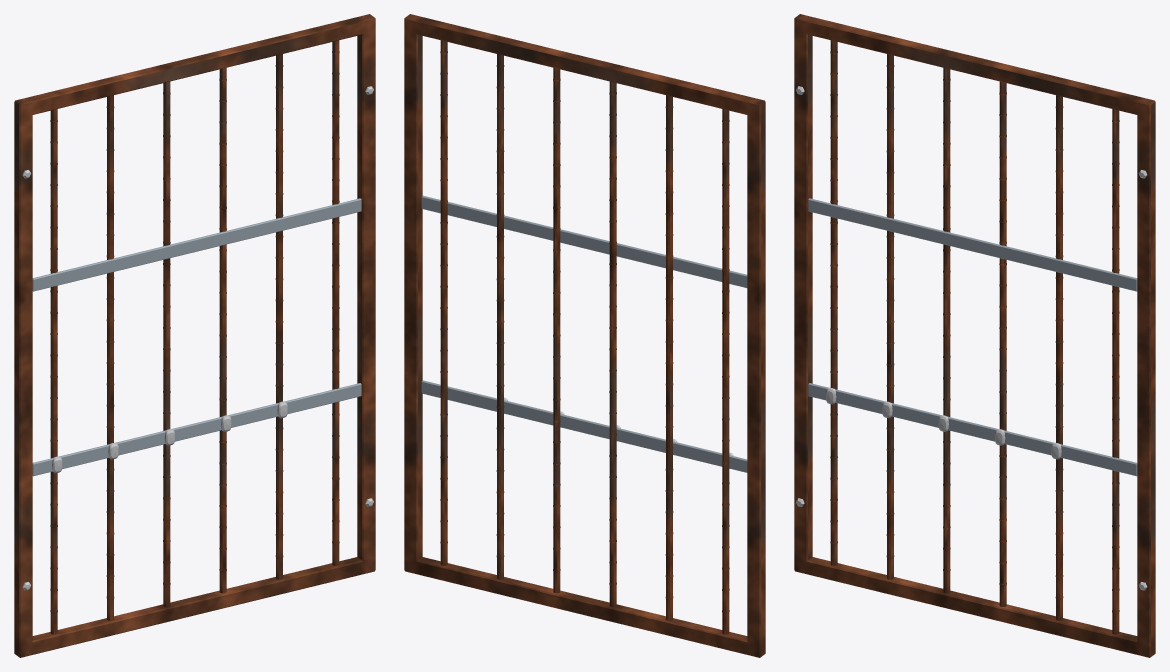
The model's file is grade_janela.glb.
The picture shows the model from 3 angles, left to right: view 1: azimuth 30°, elevation 25°; view 2: azimuth 150°, elevation 25°; view 3: azimuth 330°, elevation 25°; orthographic projection.
Visible parts, largest first — view 1: grade_janela_ferrugem, grade_janela_aco_pintado, grade_janela_aco; view 2: grade_janela_ferrugem, grade_janela_aco_pintado; view 3: grade_janela_ferrugem, grade_janela_aco_pintado, grade_janela_aco.
Part boxes in pixels (x1,y1,x2,y2): grade_janela_ferrugem: [14, 14, 375, 657]; grade_janela_aco_pintado: [32, 198, 361, 476]; grade_janela_aco: [22, 86, 373, 590]; grade_janela_ferrugem: [404, 14, 765, 657]; grade_janela_aco_pintado: [421, 195, 747, 472]; grade_janela_ferrugem: [794, 14, 1155, 657]; grade_janela_aco_pintado: [808, 198, 1137, 476]; grade_janela_aco: [796, 86, 1147, 590].
Size of the model in its own units: 1.05 by 1.56 by 0.038.
Materials: 3 (1 with a texture image).
